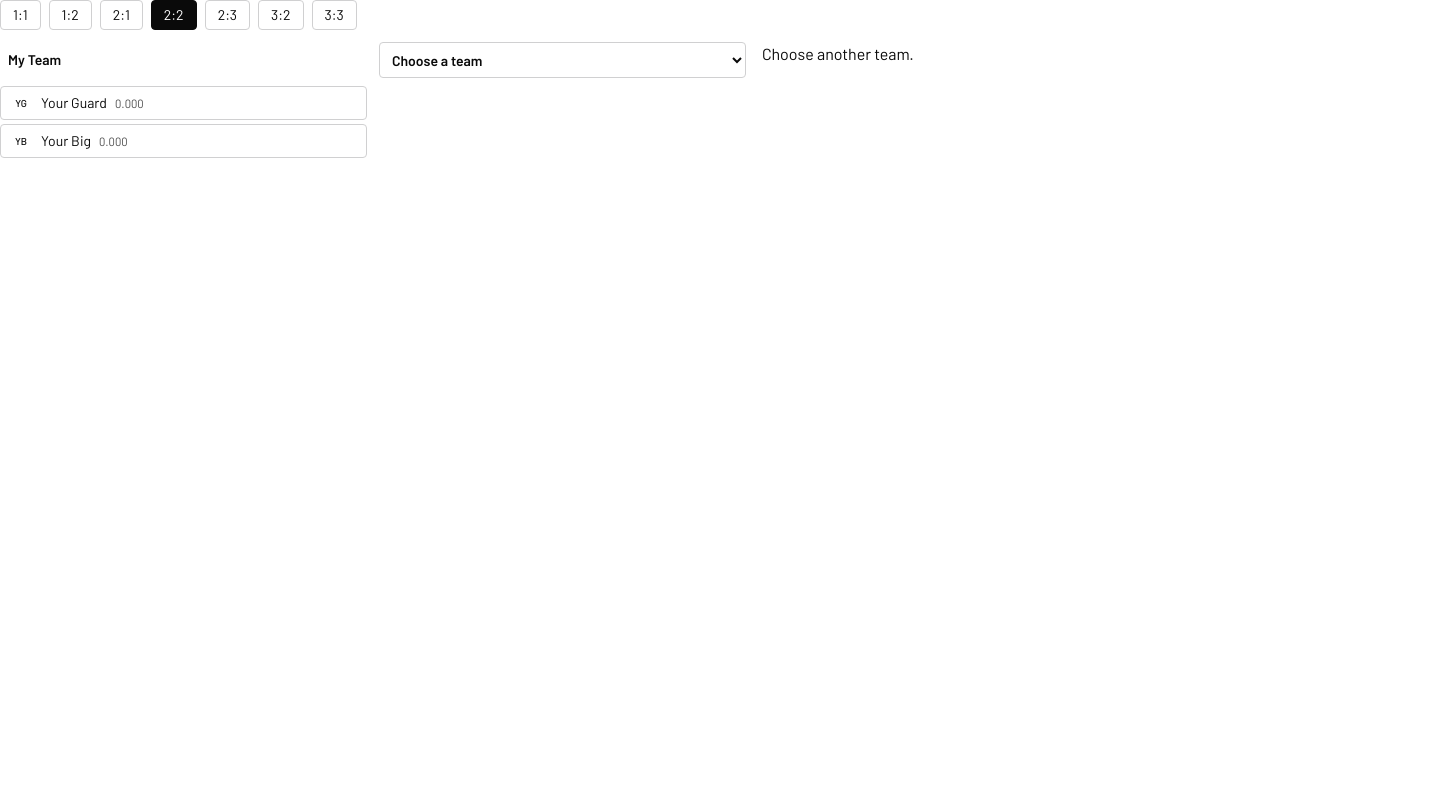
TradeSimulation › shows overall and category ranks after both sides are chosen
The image size is (1440, 810).
Check: the text "Choose another team." is shown, box [762, 44, 914, 63]
Select "Rivals" in the dropdown named "Team" at (562, 60), box [379, 42, 746, 78]
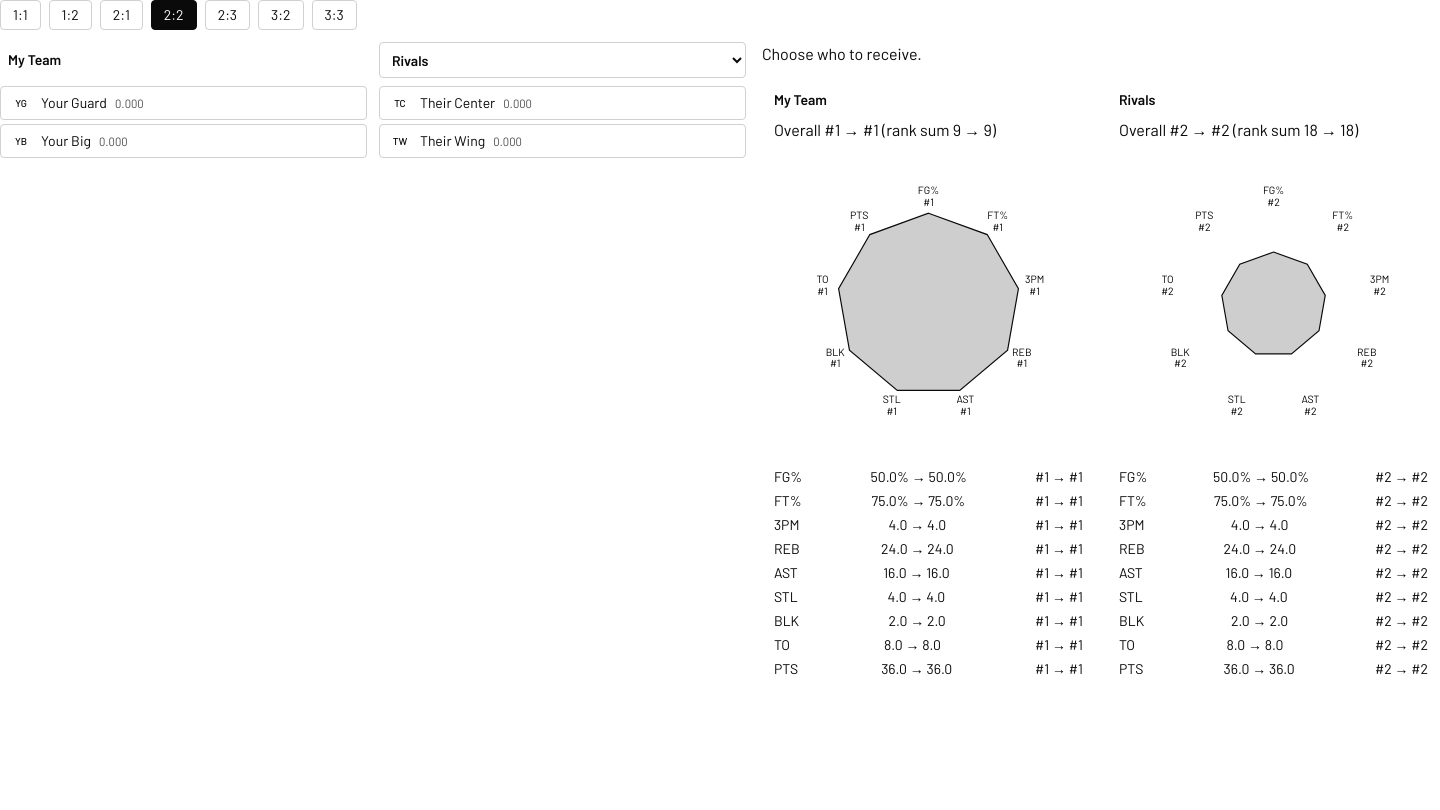
Check: the text "Choose who to receive." is shown, box [762, 44, 922, 63]
Check: the icon "FG%#1 FT%#1 3PM#1 REB#1 AST#1 STL#1 BLK#1 TO#1 PTS#1" is shown, box [774, 150, 1083, 459]
Check: the icon "FG%#2 FT%#2 3PM#2 REB#2 AST#2 STL#2 BLK#2 TO#2 PTS#2" is shown, box [1119, 150, 1428, 459]
Click the button "TC Their Center 0.000" at (458, 102), box [379, 86, 746, 120]
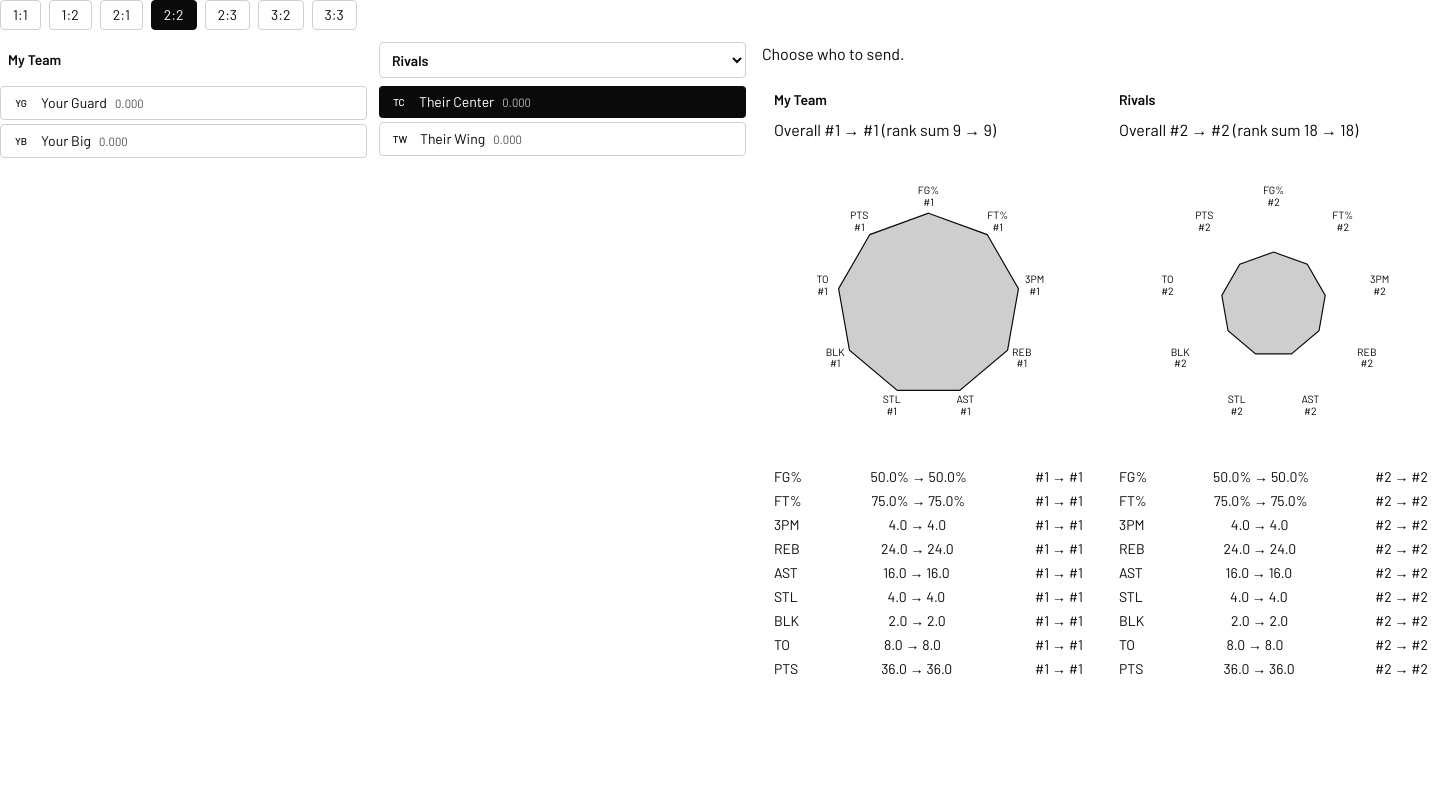
Check: the text "Choose who to send." is shown, box [762, 44, 904, 63]
Click the button "YG Your Guard 0.000" at (74, 102), box [0, 86, 367, 120]
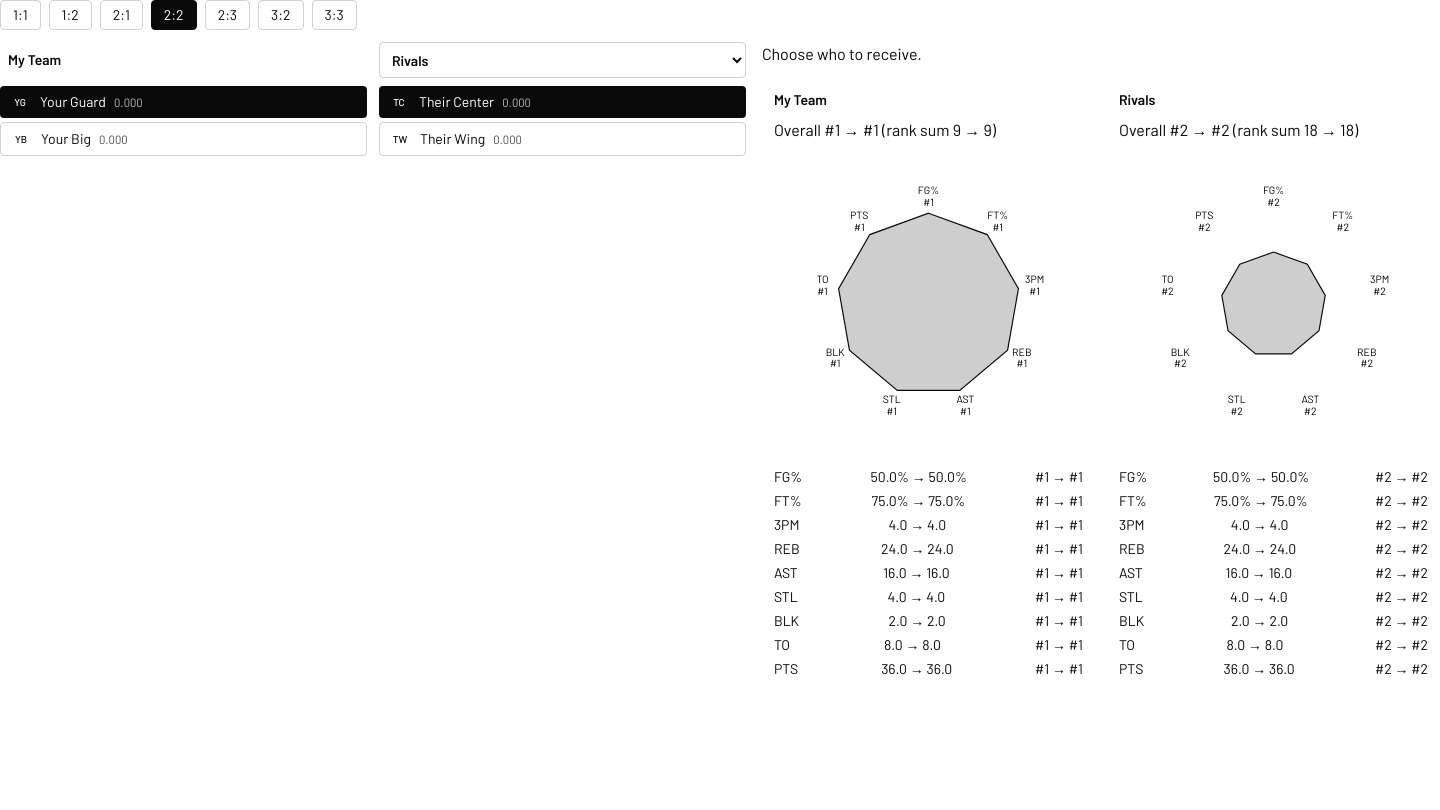
Click the button "TW Their Wing 0.000" at (453, 138), box [379, 122, 746, 156]
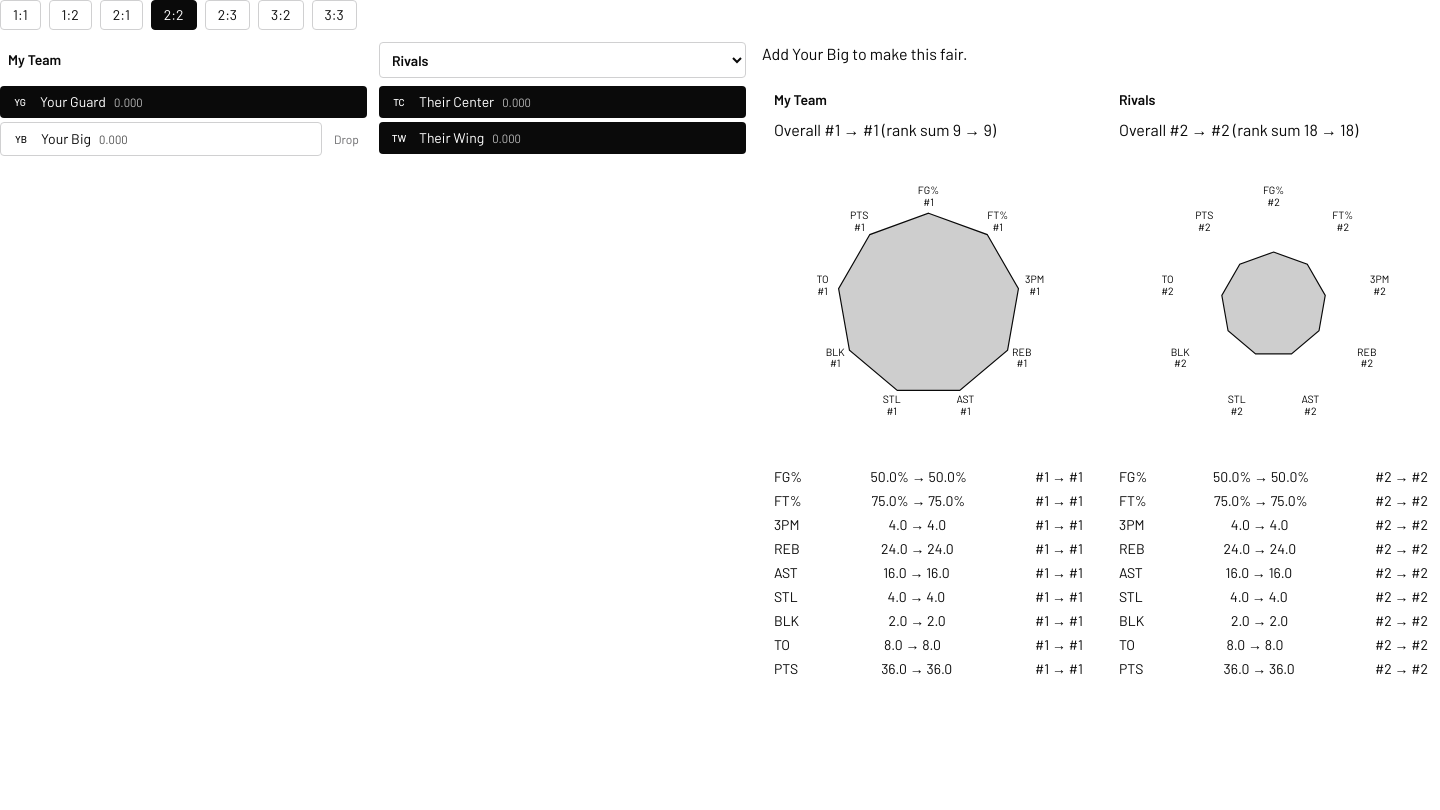
Click the button "YB Your Big 0.000" at (66, 138), box [0, 122, 322, 156]
(page scrolled)
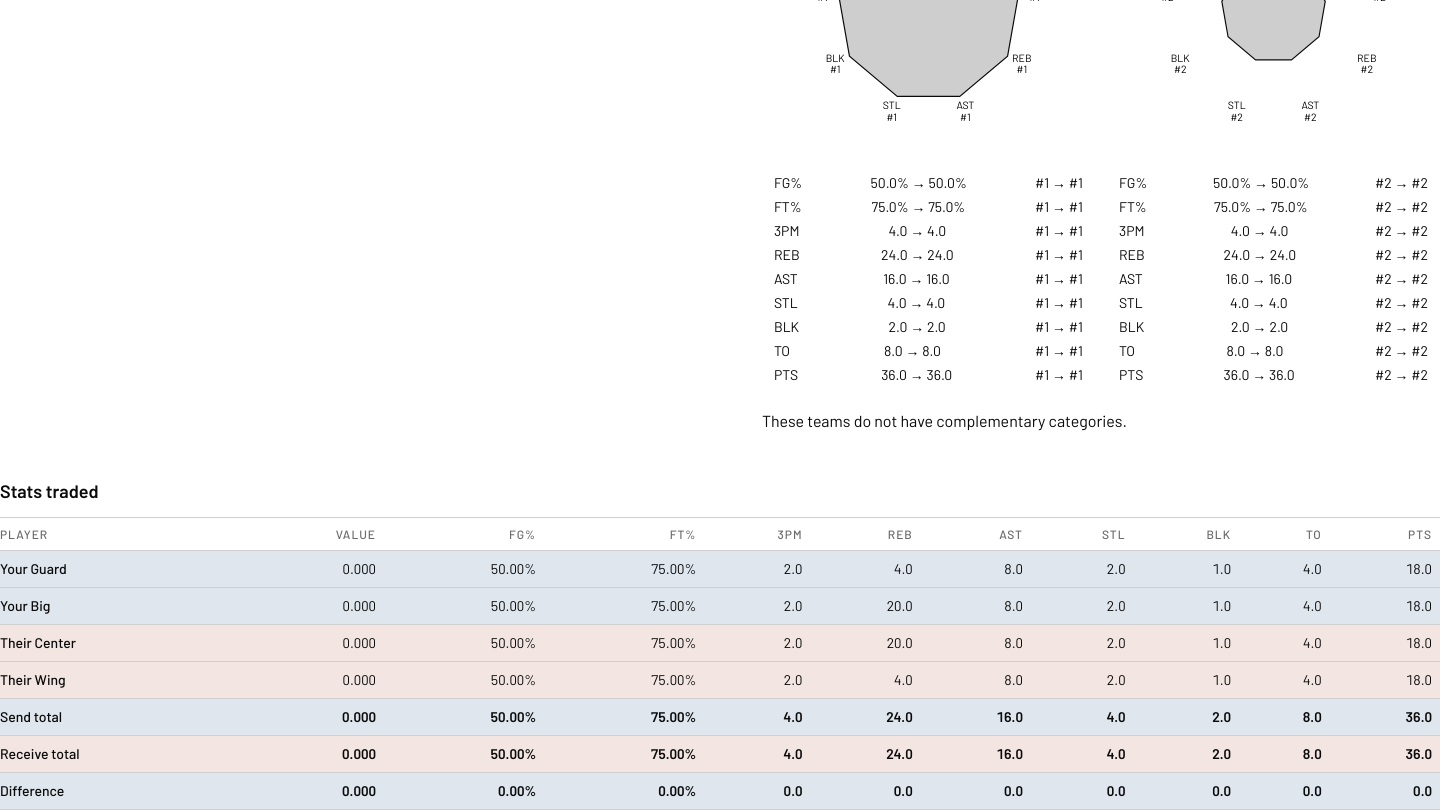
Check: the text "REB" is shown, box [1012, 50, 1031, 63]
Check: the heading "Stats traded" is shown, box [0, 480, 98, 502]
Check: the column heading "Difference" is shown, box [0, 773, 238, 809]
